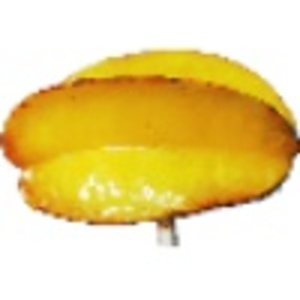carambola: (1, 47, 300, 240)
